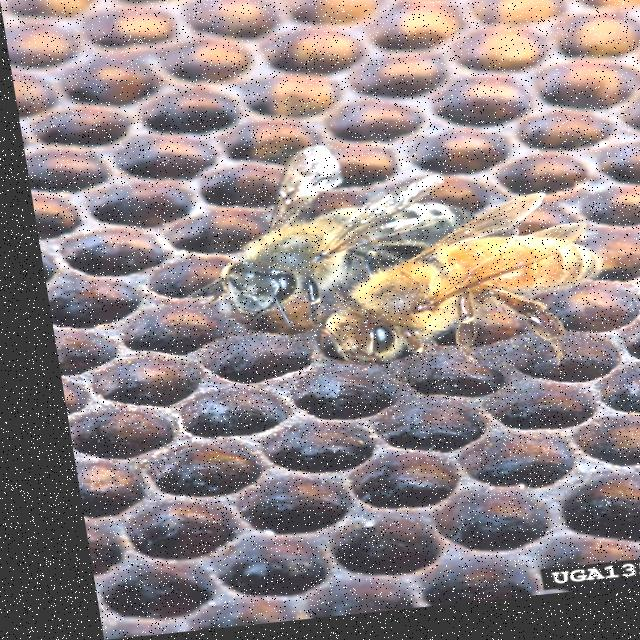Apis-mellifera-scutellata: (290, 192, 616, 401), (188, 128, 482, 336)
